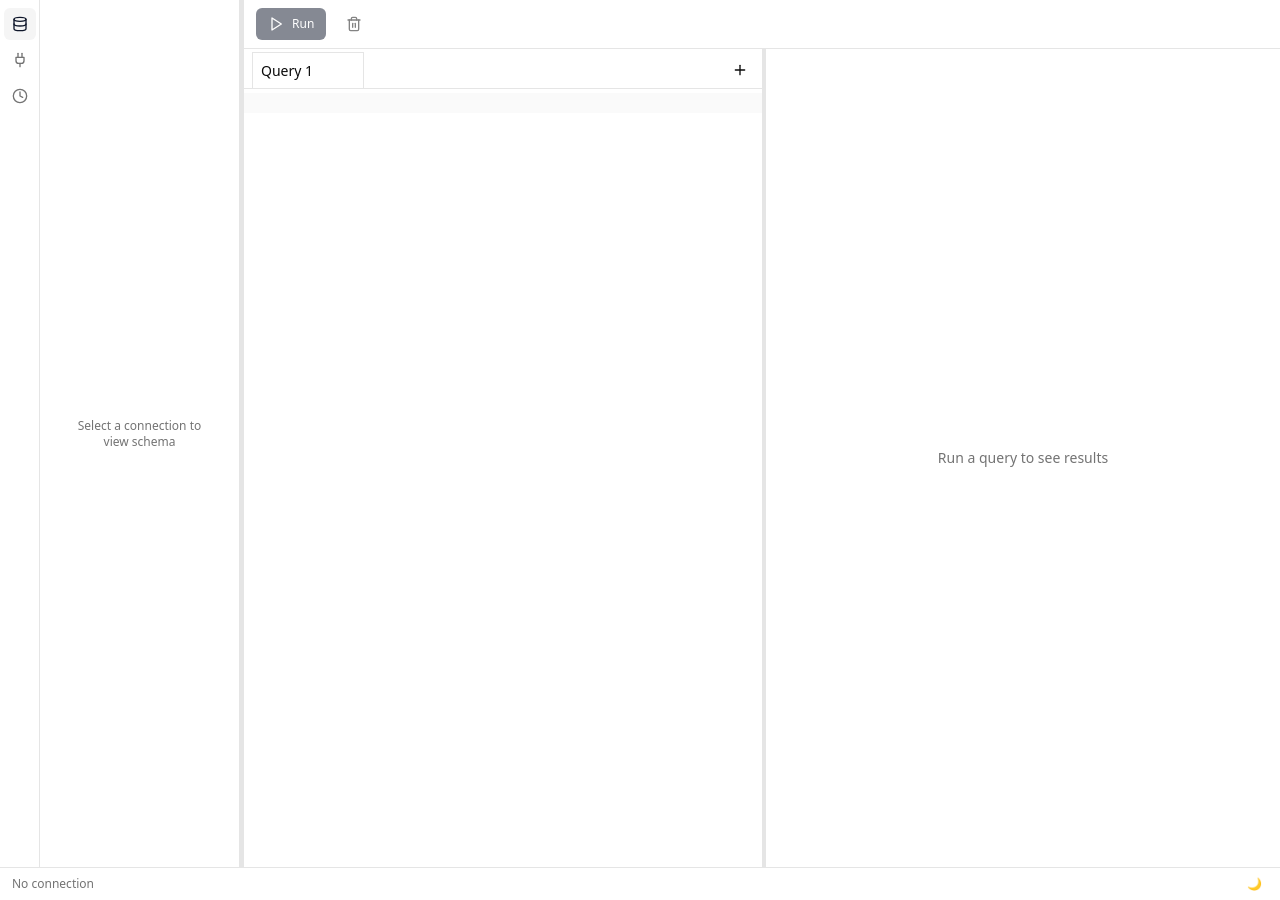
Test: Home connection flow › lets users edit and delete an existing connection
Click the button with test id "sidebar-tab-connections" at (20,60), box [4, 44, 36, 76]
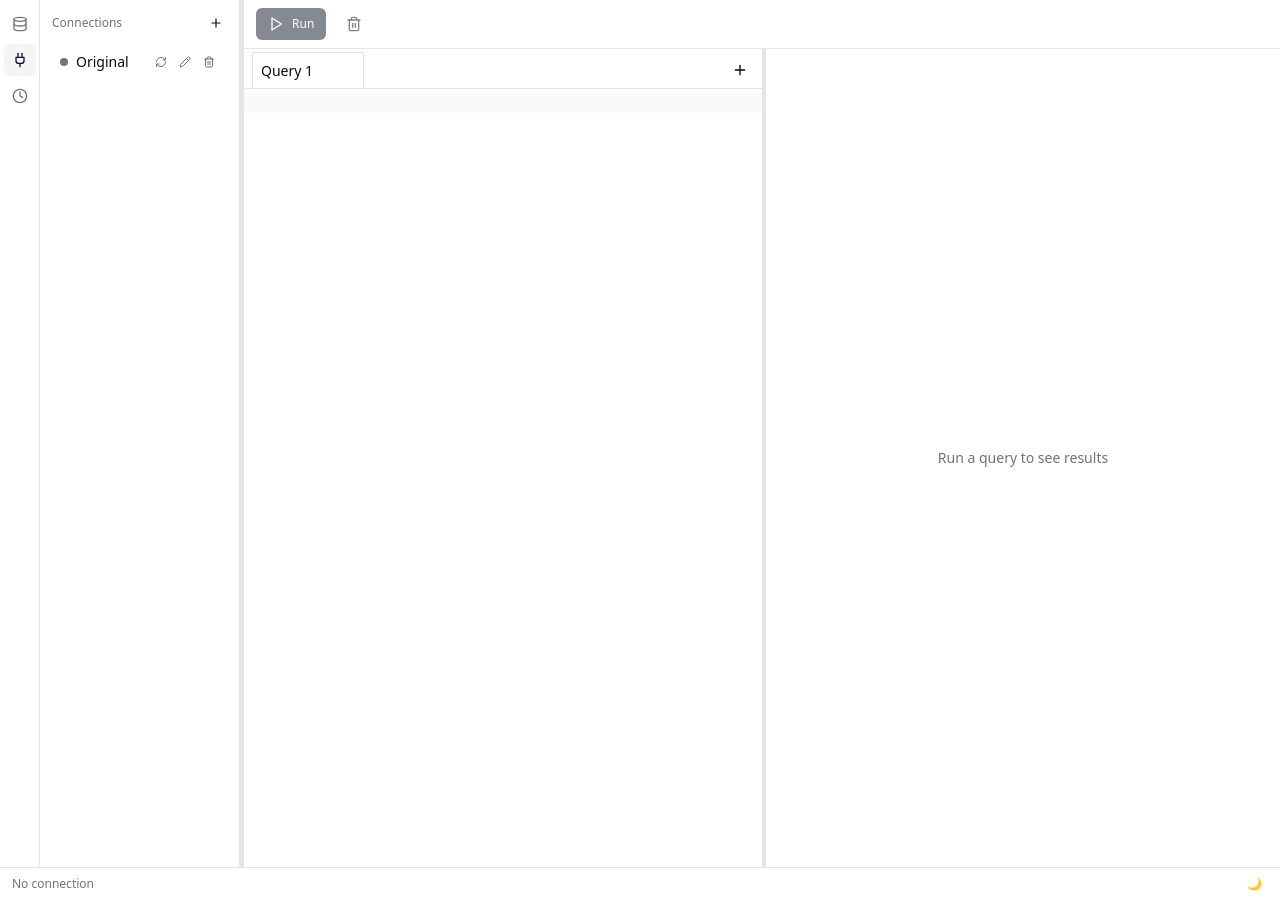
Click the button named "Edit connection Original" at (185,62), box [175, 52, 195, 72]
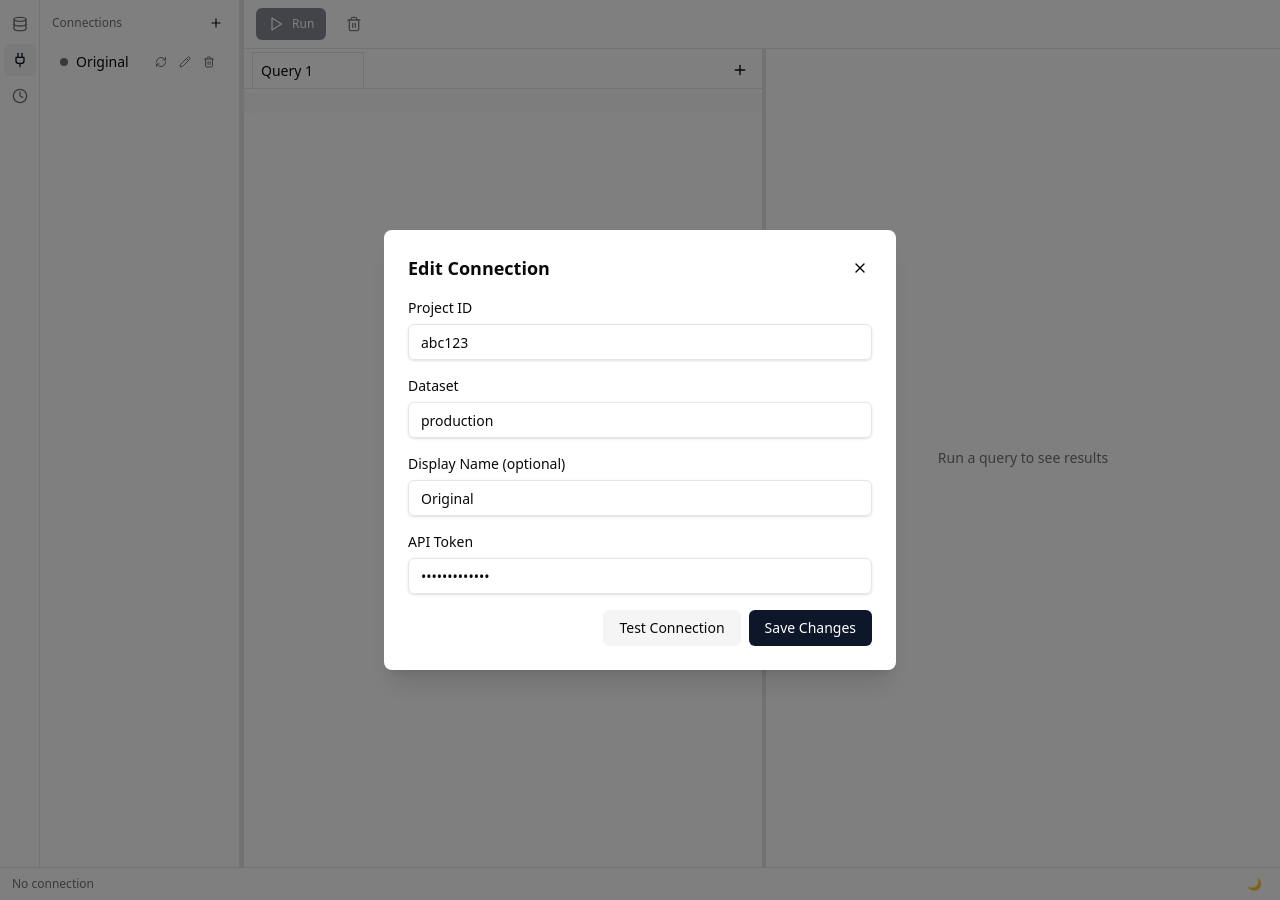
Replace the text in the field labelled "Display Name (optional)" with "Updated" at (640,498), box [408, 480, 872, 516]
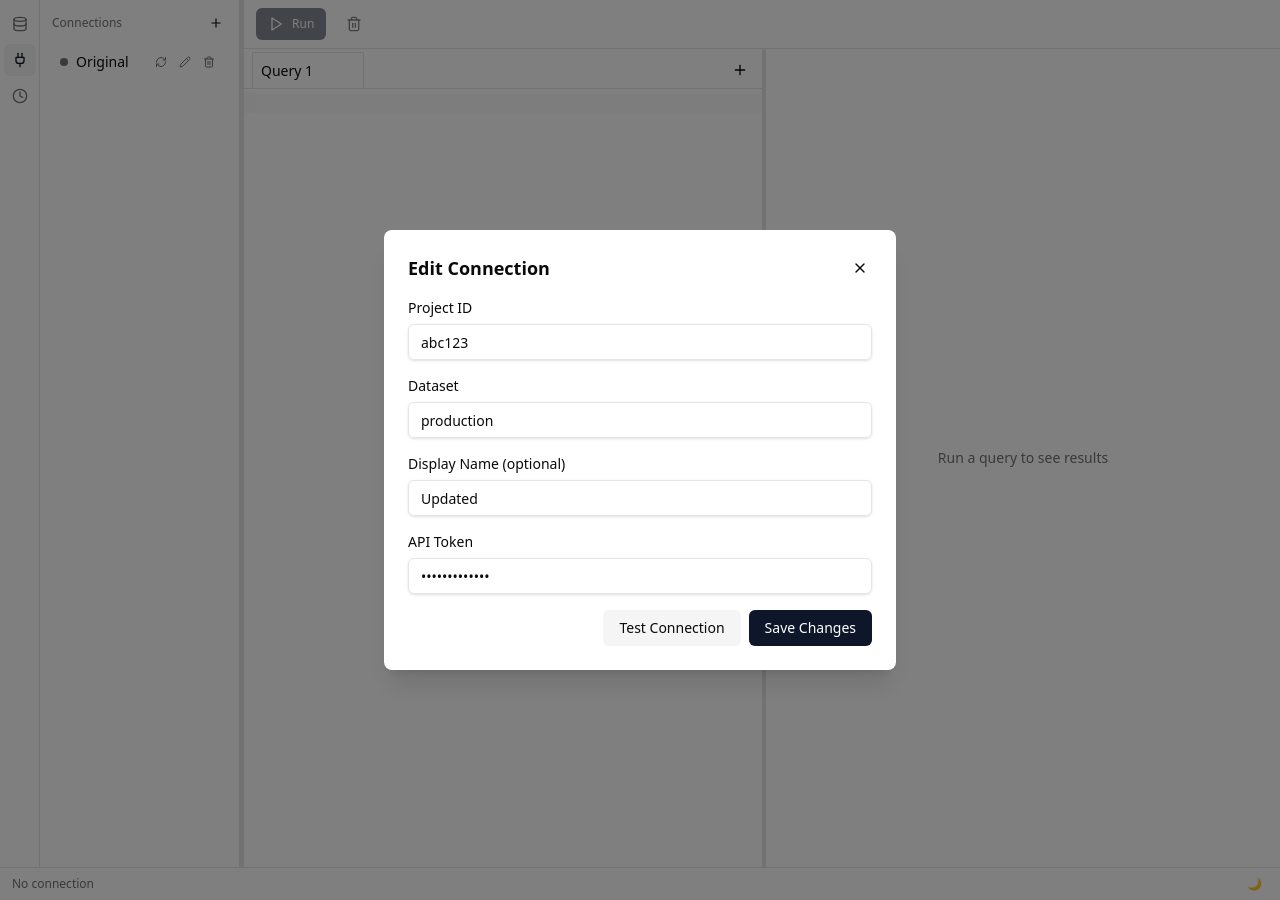
Click the button "Save Changes" at (810,628), box [749, 610, 872, 646]
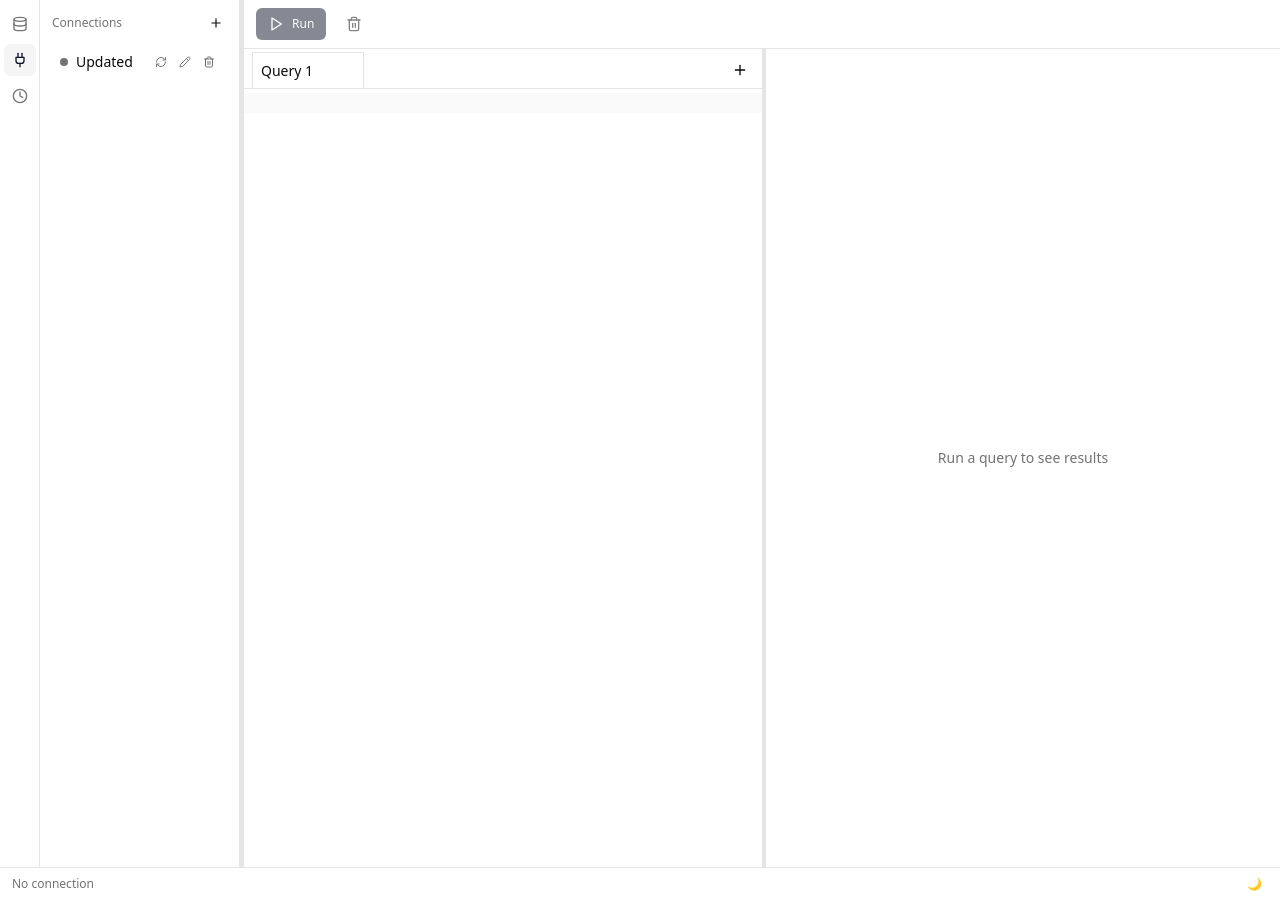
Expected: the text "Updated" is shown, [76, 52, 133, 71]
Click the button named "Delete connection Updated" at (209,62), box [199, 52, 219, 72]
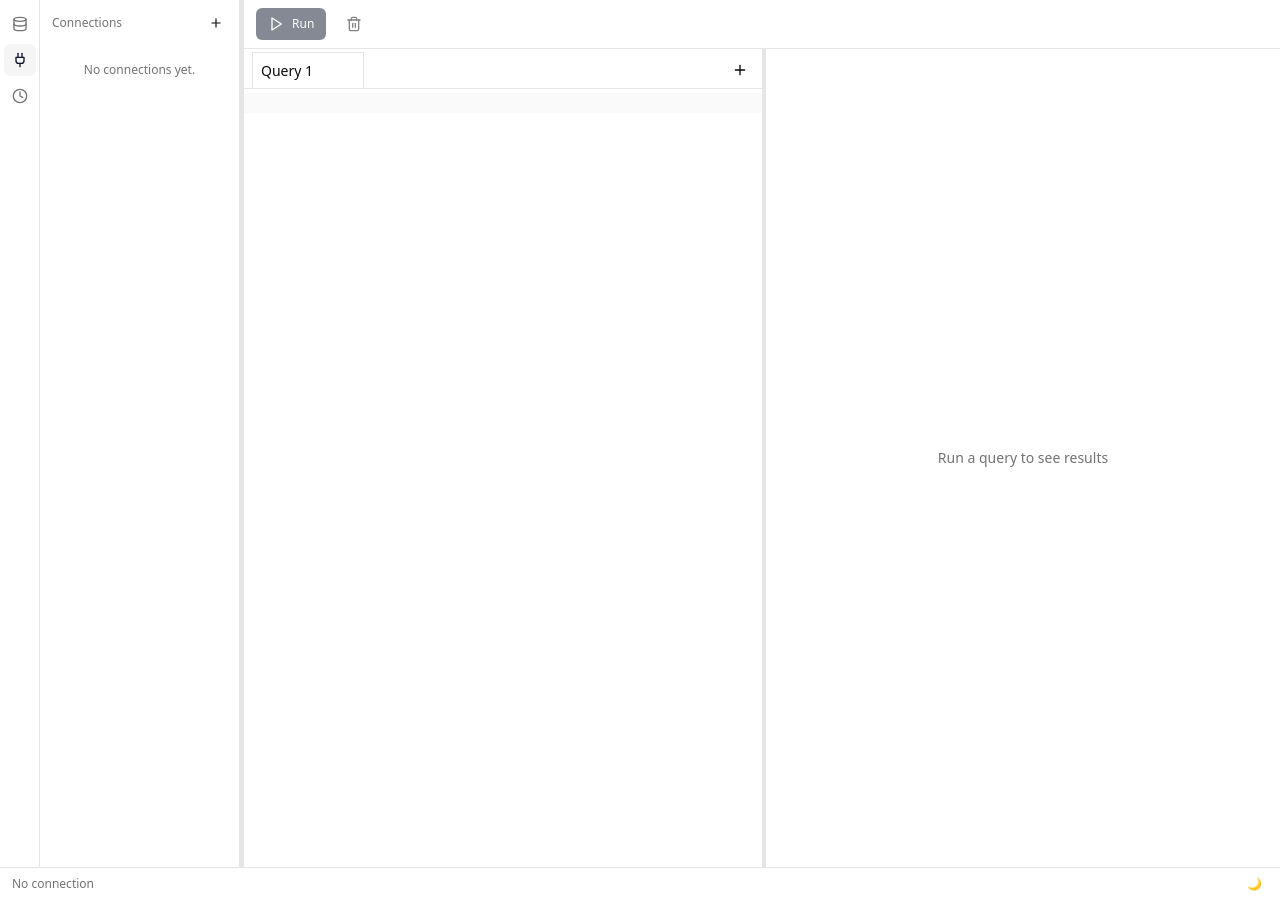
Expected: the text "No connections yet." is shown, [84, 61, 195, 78]
